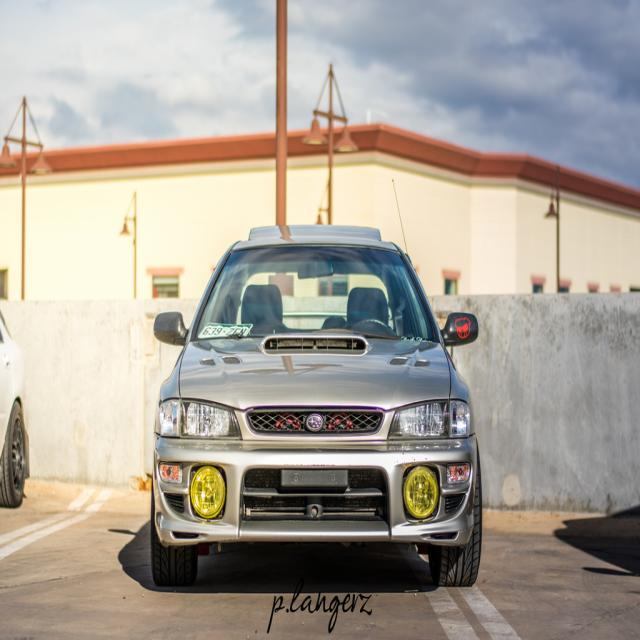car: (150, 176, 478, 585)
